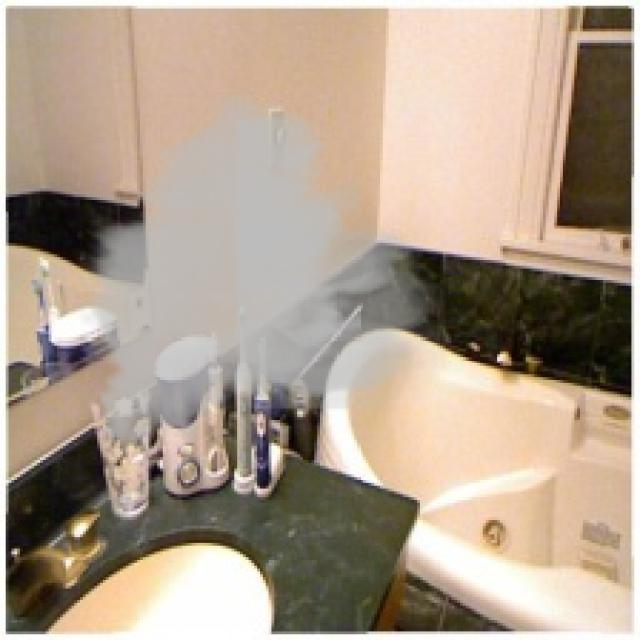Smoke: (74, 80, 446, 469)
